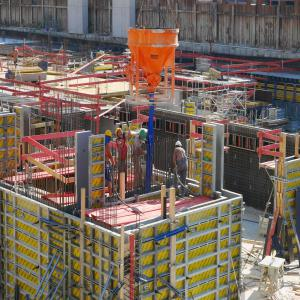blue: (15, 46, 18, 51)
white: (176, 142, 182, 149)
yellow: (106, 130, 113, 144), (116, 129, 124, 140)
